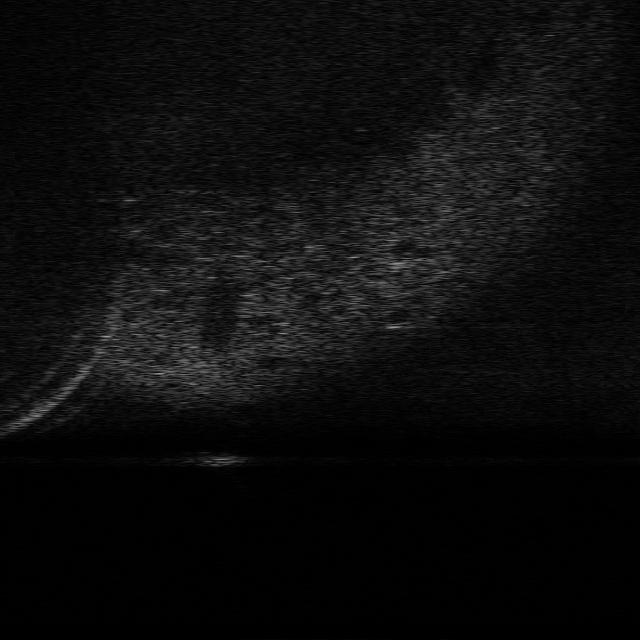cube: (190, 449, 249, 469)
